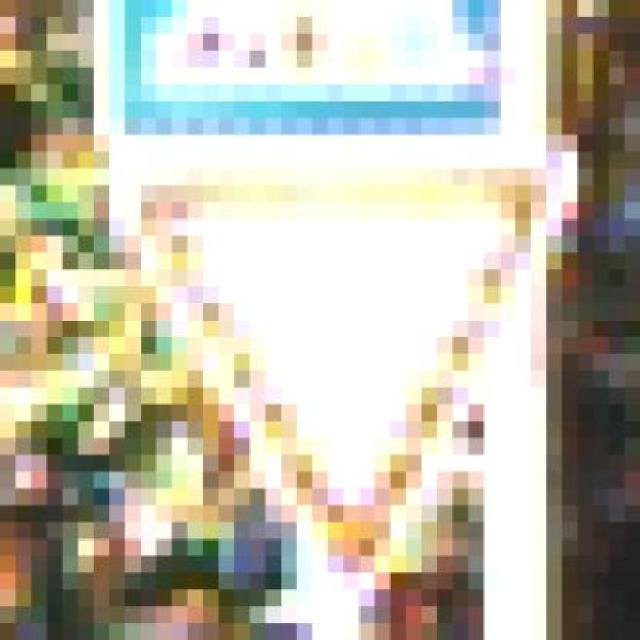Give Way: (76, 133, 622, 622)
